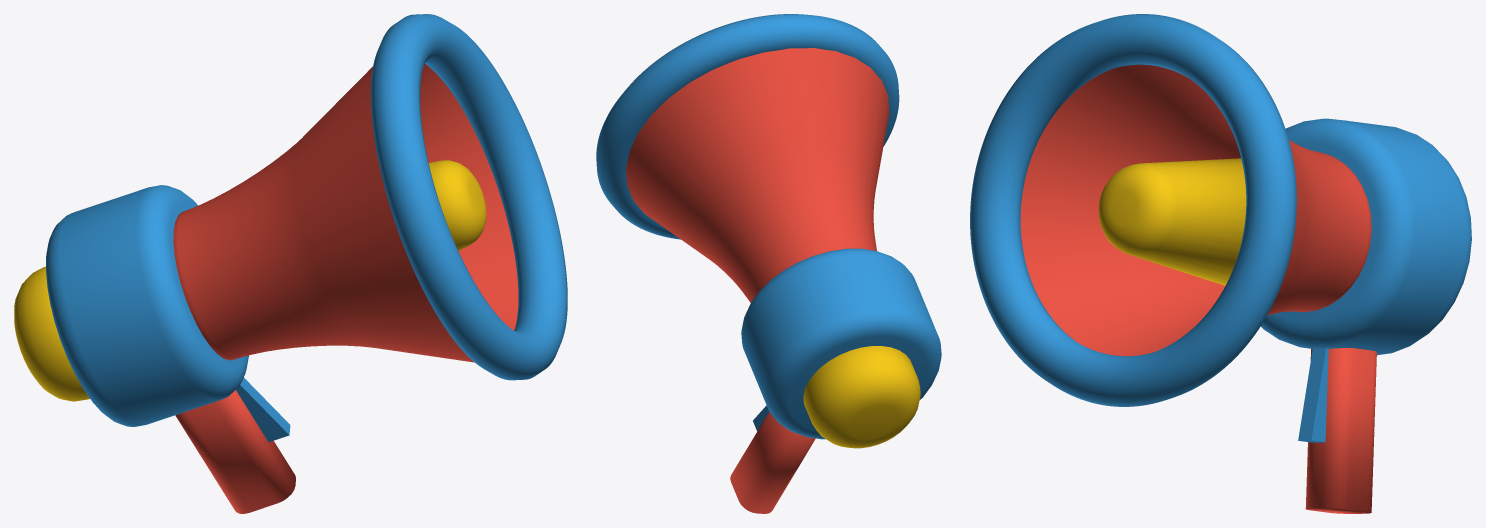
File: Social-media.glb
3 renders of one model, left to right at view 1: azimuth 30°, elevation 25°; view 2: azimuth 150°, elevation 25°; view 3: azimuth 270°, elevation 25°, orthographic. The views are drawn at different scales.
Parts seen in each view (by area): view 1: Cylinder, Cylinder.004, Cylinder.001, Cube, Cylinder.002, Cylinder.003, Cube.001; view 2: Cylinder, Cylinder.001, Cylinder.004, Cylinder.002, Cube; view 3: Cylinder.004, Cylinder, Cylinder.001, Cylinder.003, Cube, Cube.001.
Boxes of the visible parts, x1,y1,x2,y2 form: Cylinder: (173,63,518,362); Cylinder.004: (370,14,567,380); Cylinder.001: (46,185,248,426); Cube: (175,390,295,513); Cylinder.002: (14,266,89,401); Cylinder.003: (428,160,486,250); Cube.001: (236,377,290,441); Cylinder: (626,48,889,302); Cylinder.001: (741,248,941,439); Cylinder.004: (596,14,899,239); Cylinder.002: (803,346,920,448); Cube: (730,411,815,513); Cylinder.004: (970,14,1296,406); Cylinder: (1020,64,1371,356); Cylinder.001: (1260,118,1471,355); Cylinder.003: (1098,158,1246,285); Cube: (1305,348,1376,513); Cube.001: (1298,348,1328,442).
Bounding box in the file's own units: 4.62 × 5.09 × 4.34.
